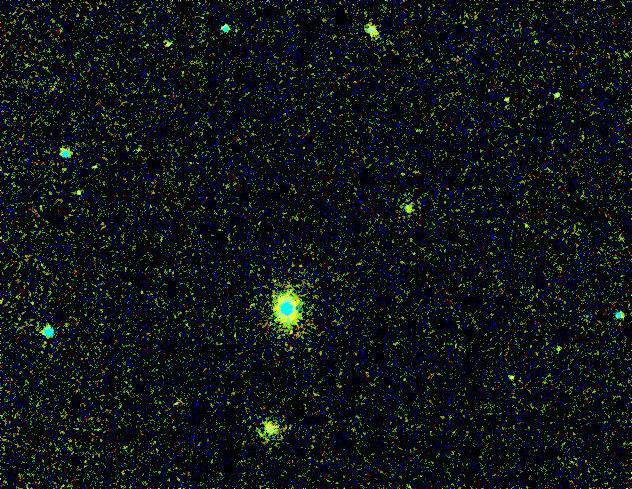star: (155, 37, 185, 67)
